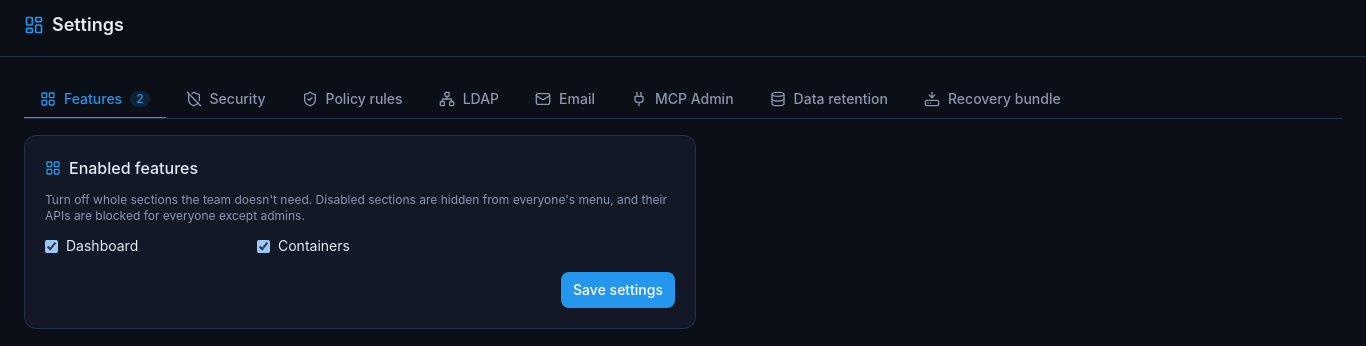
Test case: Settings save feedback › shows the result on the card that saved
The width and height of the screenshot is (1366, 346).
Click the button "Save settings" at (618, 290), box [561, 272, 675, 308]
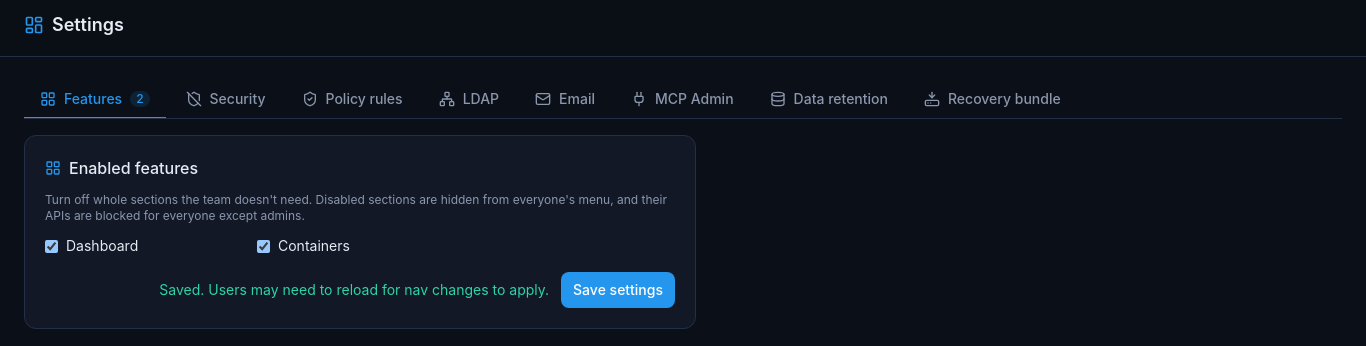
Check: the text "nav changes" is shown, box [159, 281, 549, 298]
